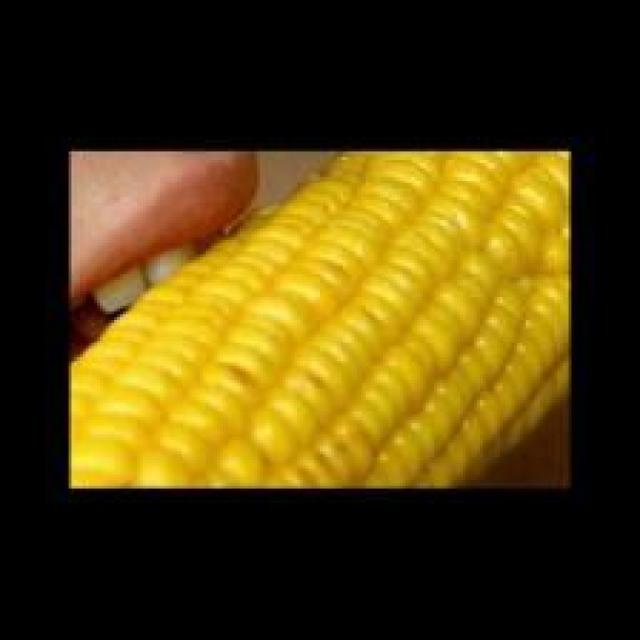corn: (69, 151, 574, 494)
